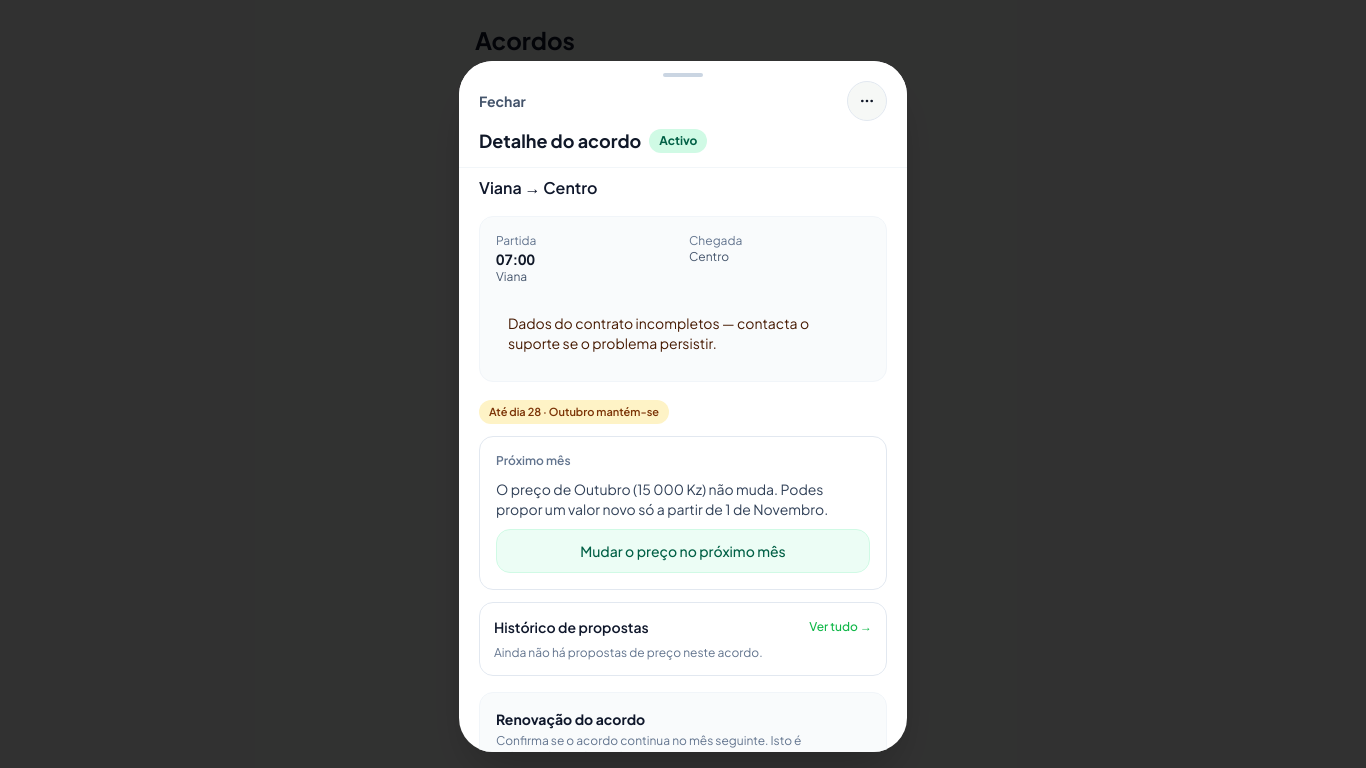
it: MyAgreements follow-up #278 › B2: motorista JC vê toast «Acordo terminado por justa causa.»
This screenshot has width=1366, height=768.
Click the button named "Mais acções do acordo": (867, 101) [847,81,887,121]
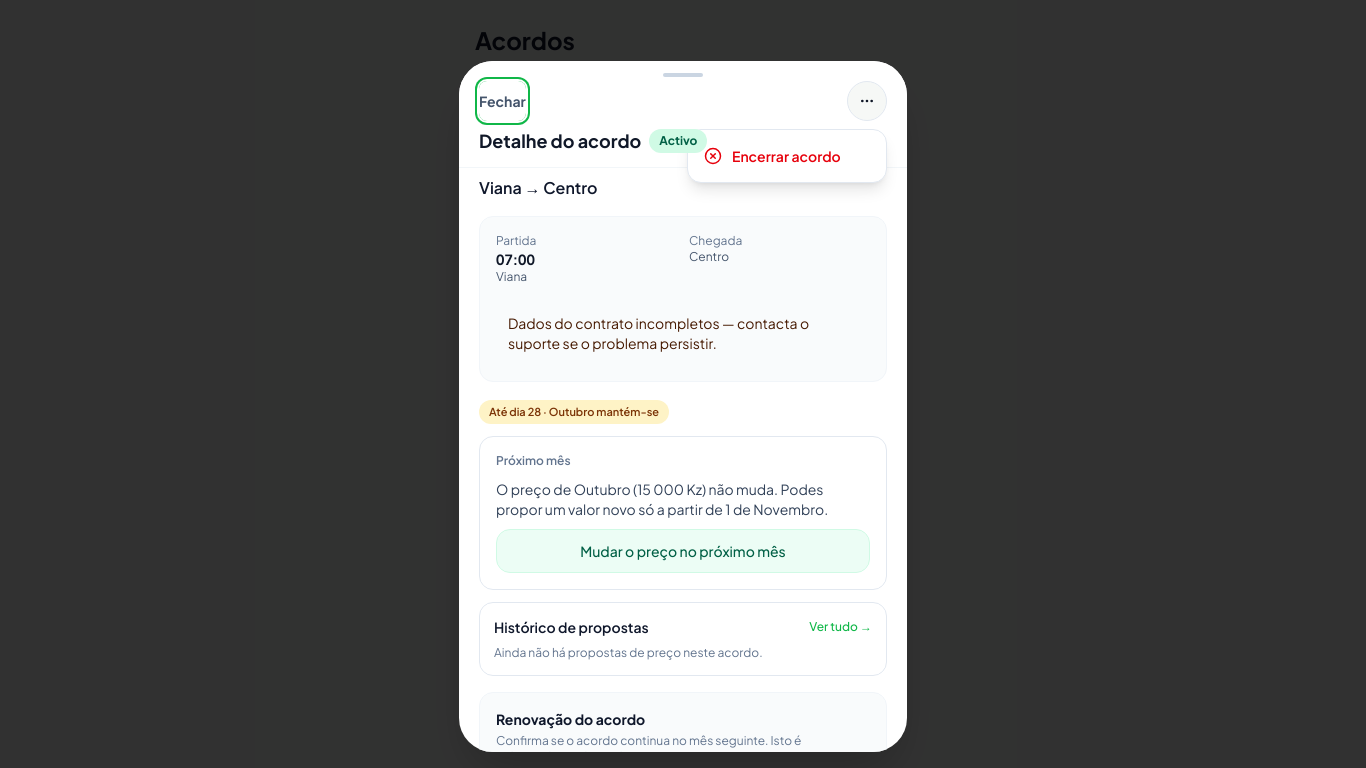
Click the menu item "Encerrar acordo": (787, 156) [688,134,886,178]
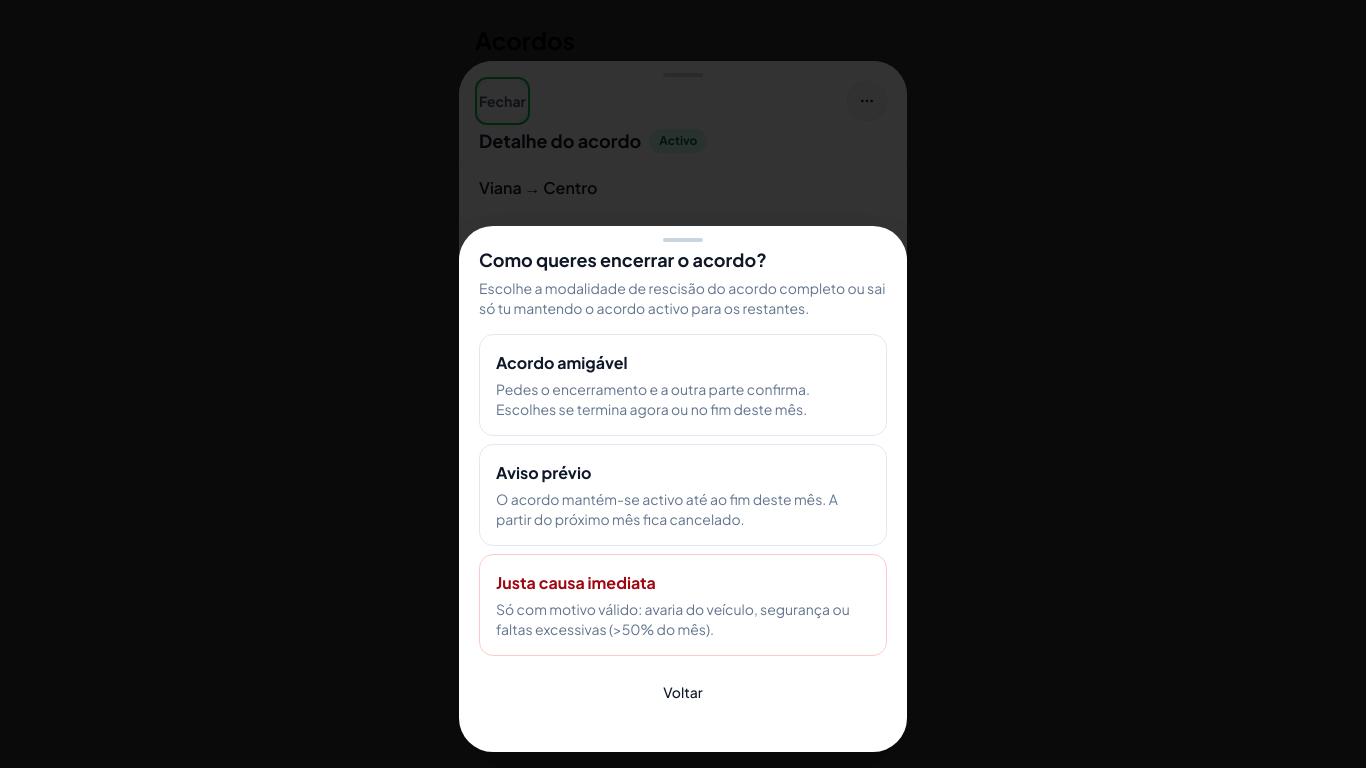
Click the button "Justa causa imediata": (683, 605) [479,554,887,656]
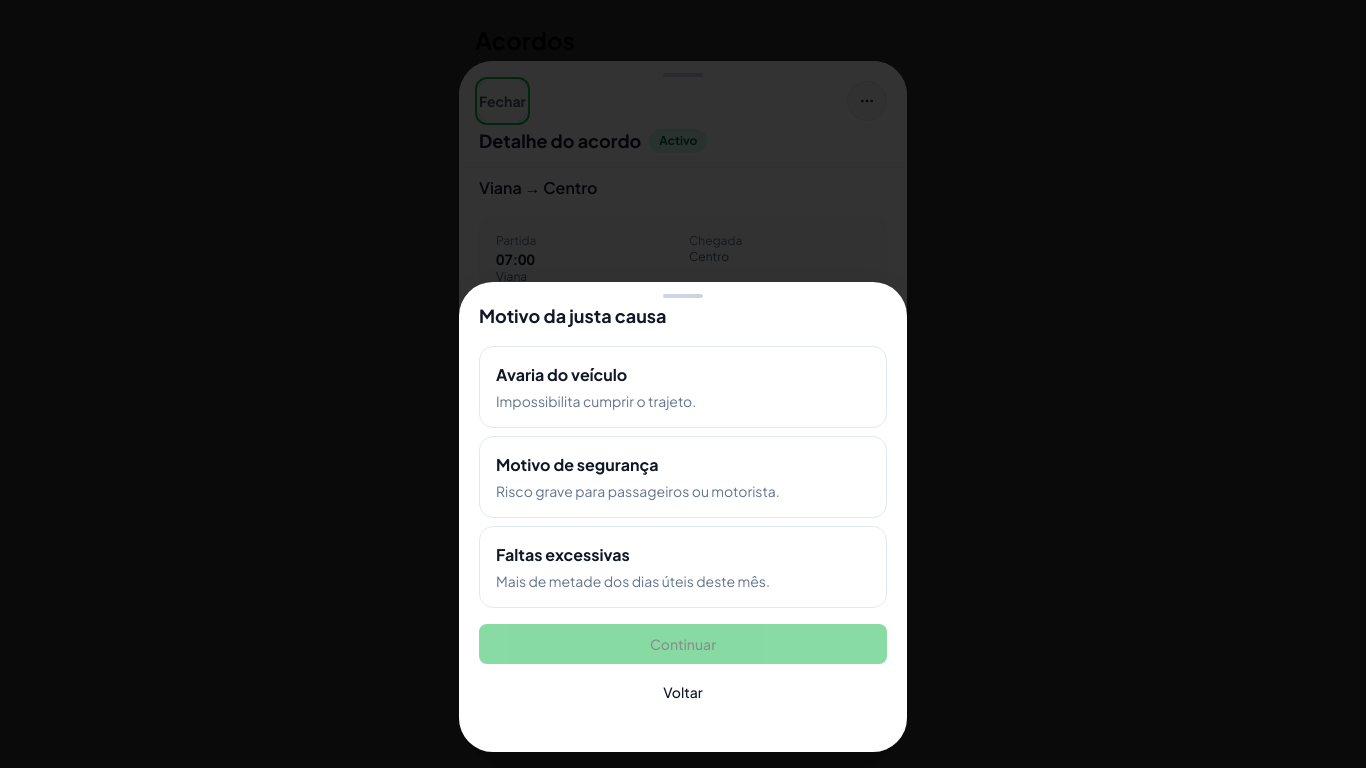
Click the button "Faltas excessivas Mais de metade dos dias úteis deste mês.": (563, 554) [479,526,887,608]
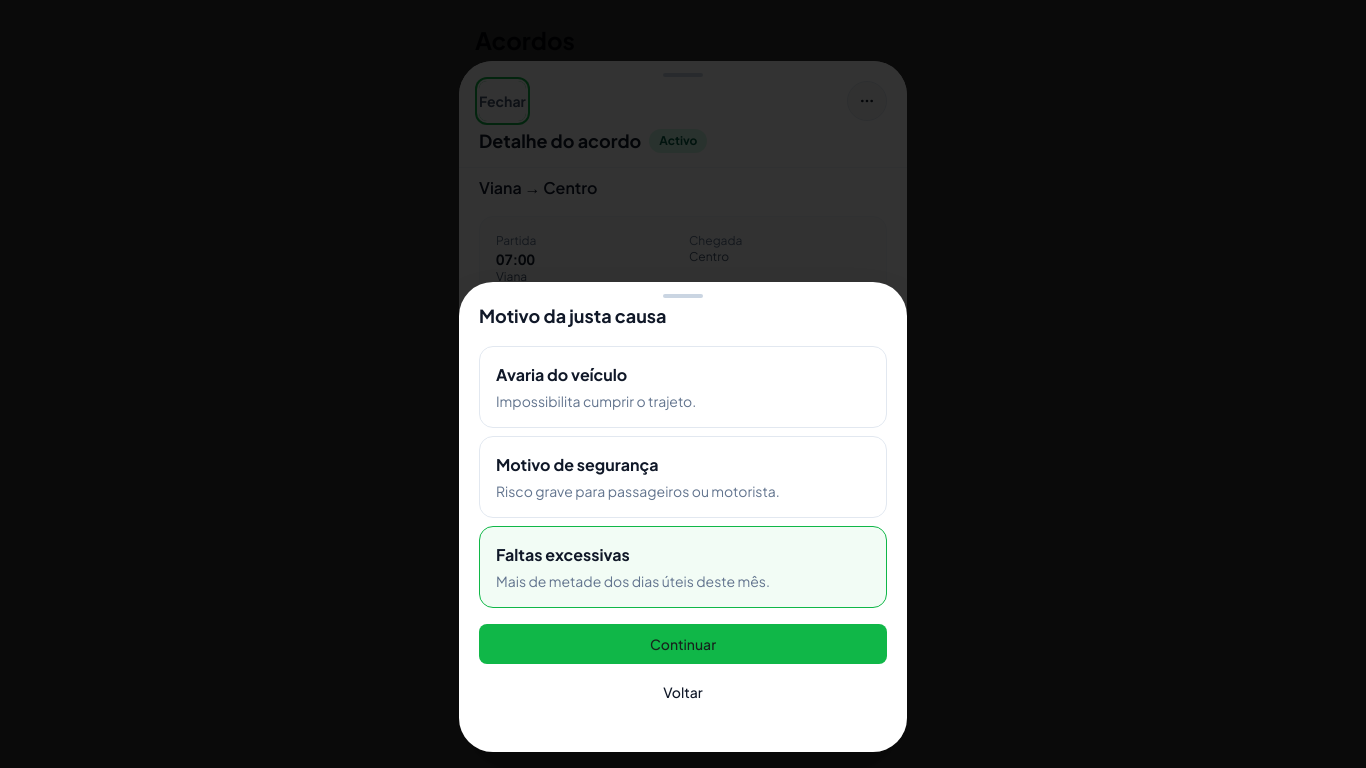
Click the button "Continuar": (683, 644) [479,624,887,664]
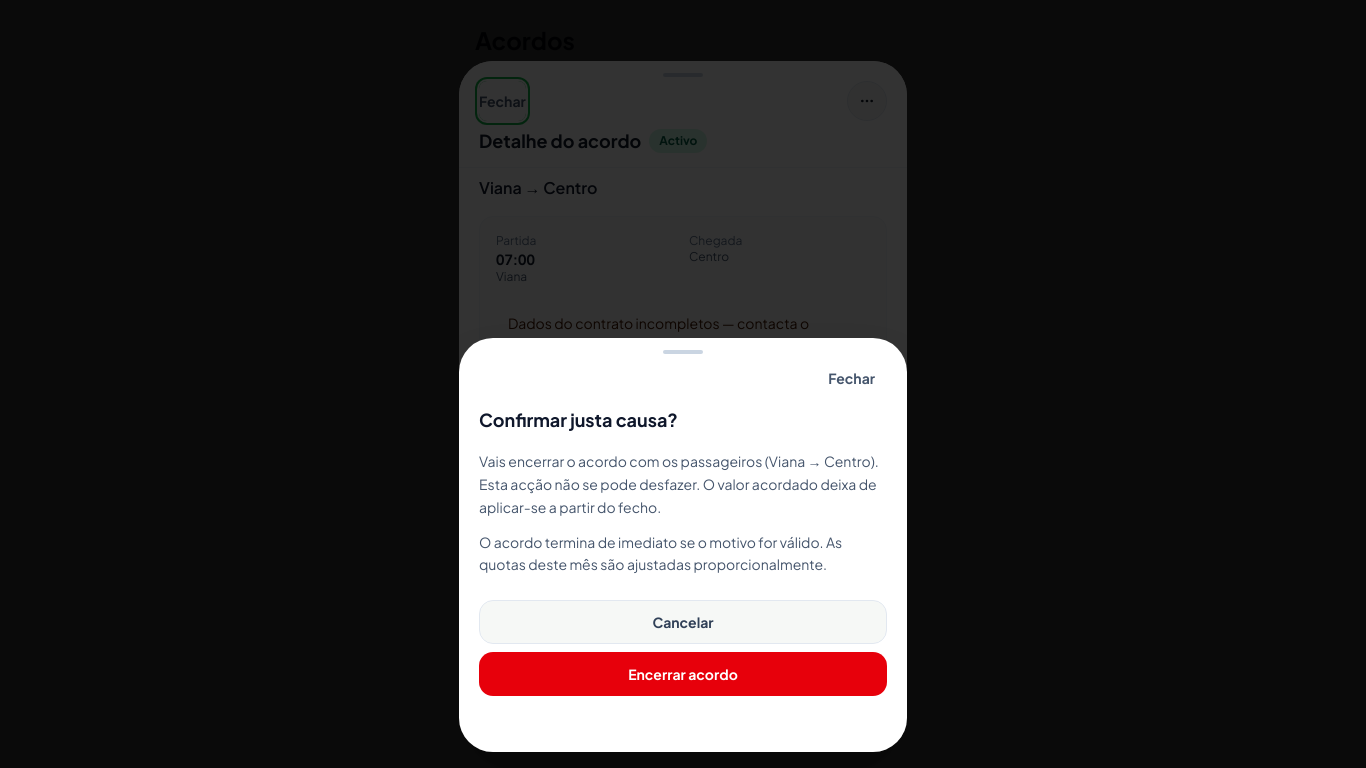
Now the element with test id "terminate-confirm-sheet" is shown, box [459,338,907,752]
Click the button with test id "terminate-confirm-submit": (683, 674) [479,652,887,696]
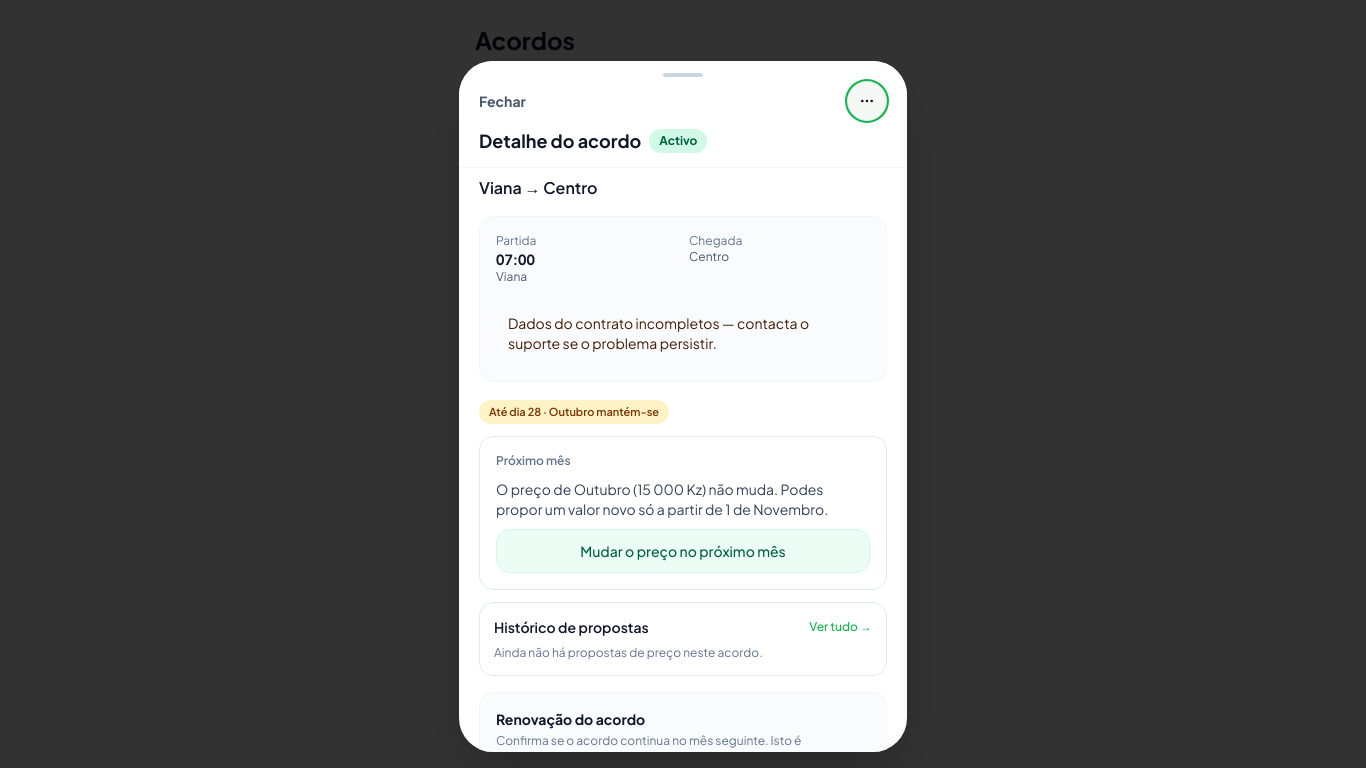
Expected: the message with test id "agreements-feedback" does not show "Terminaste o teu lugar por justa causa.", [475,104,891,153]
Now the message with test id "agreements-feedback" reads "Acordo terminado por justa causa.", box [524,119,753,137]
